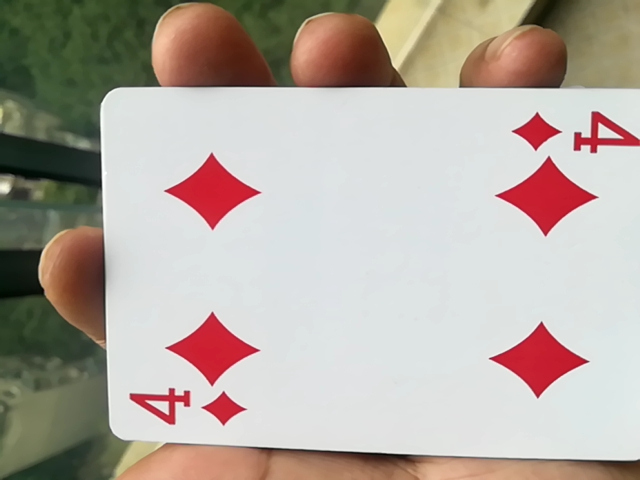fk 4: (84, 87, 637, 470)
